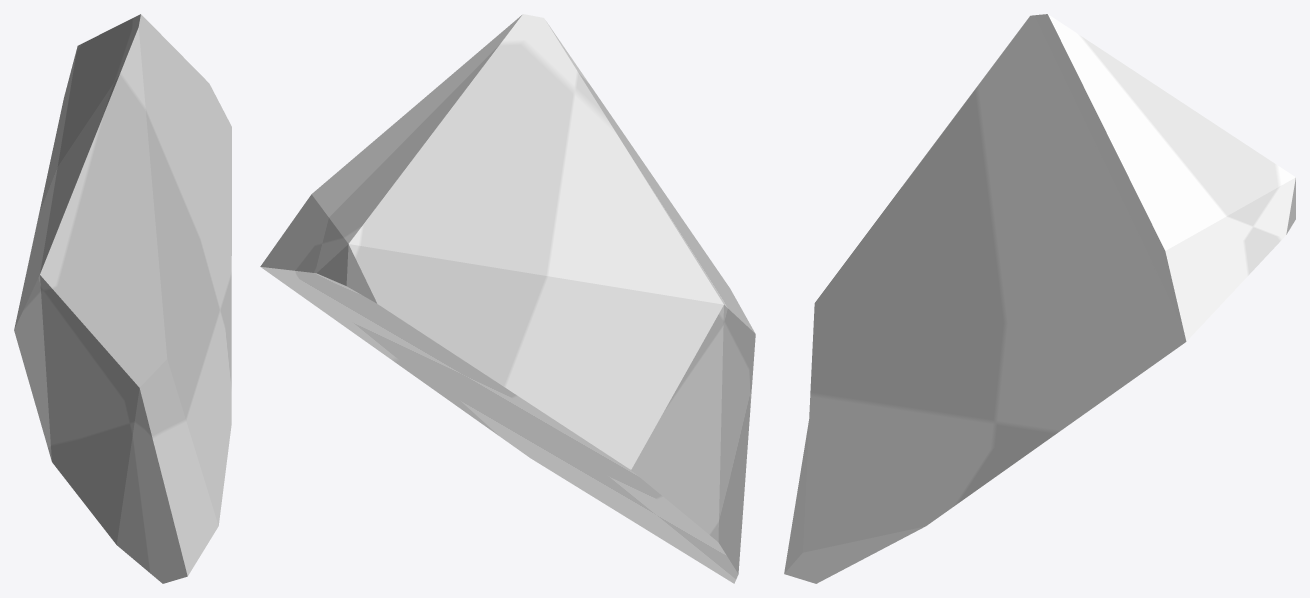
The model's file is FacetExploration.glb.
The picture shows the model from 3 angles, left to right: view 1: azimuth 30°, elevation 25°; view 2: azimuth 150°, elevation 25°; view 3: azimuth 270°, elevation 25°; orthographic projection. The views are drawn at different scales.
Parts seen in each view (by area): view 1: 06Exploration.001; view 2: 06Exploration.001; view 3: 06Exploration.001.
Boxes of the visible parts, bbox=[...] form: 06Exploration.001: bbox=[14, 14, 231, 583]; 06Exploration.001: bbox=[260, 14, 755, 583]; 06Exploration.001: bbox=[784, 14, 1295, 583].
Bounding box in the file's own units: 1.15 × 1.96 × 1.48.
1 material, 1 textured.
